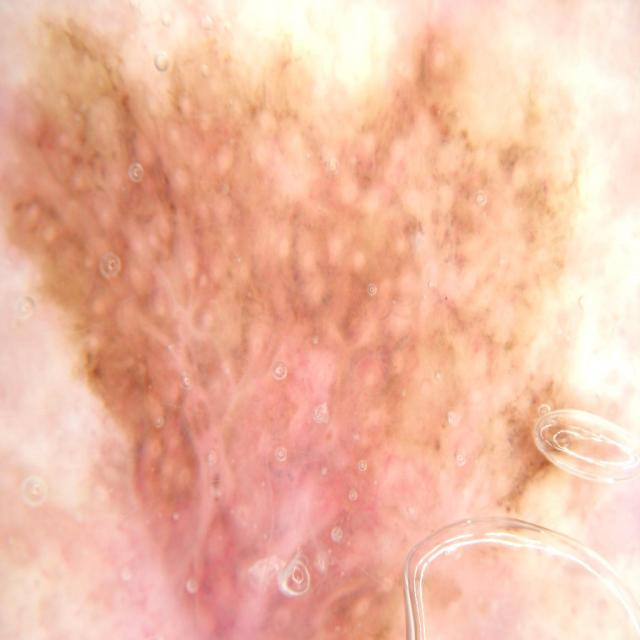Skin-Cancer Melanoma: (0, 0, 614, 640)
